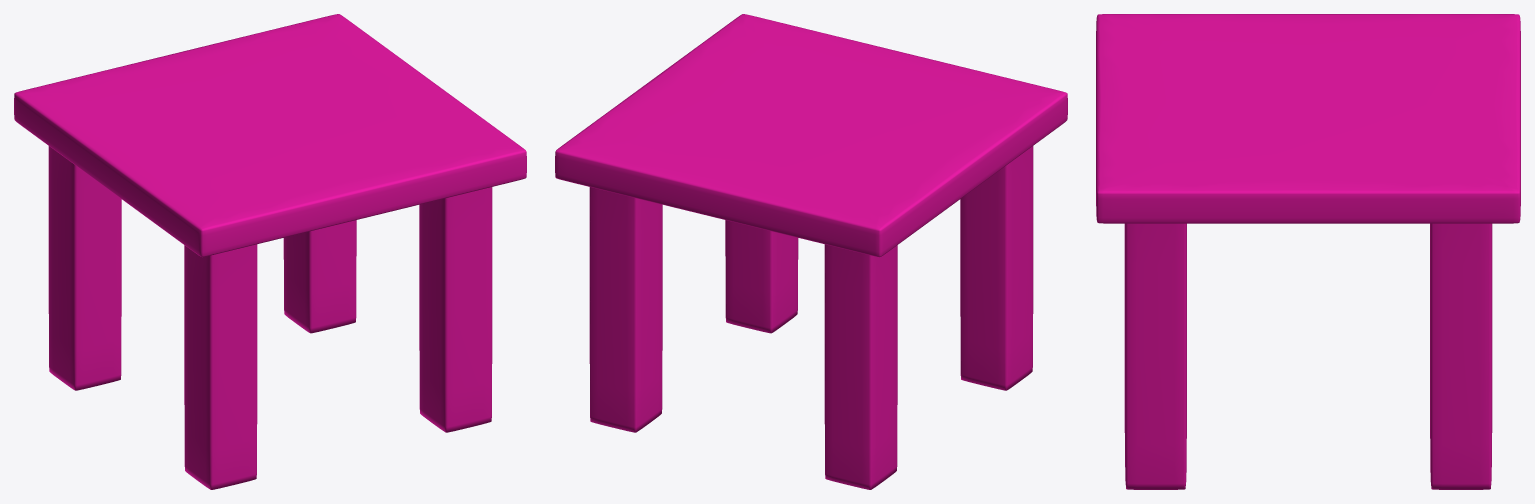
The model's file is Table01.fbx.
3 renders of one model, left to right at view 1: azimuth 30°, elevation 25°; view 2: azimuth 150°, elevation 25°; view 3: azimuth 270°, elevation 25°, orthographic. The views are drawn at different scales.
Parts seen in each view (by area): view 1: Table01; view 2: Table01; view 3: Table01.
Boxes of the visible parts, left/top/right/bottom form: Table01: left=14, top=14, right=526, bottom=489; Table01: left=555, top=14, right=1067, bottom=489; Table01: left=1096, top=14, right=1520, bottom=489.
Bounding box in the file's own units: 200 × 162 × 200.
